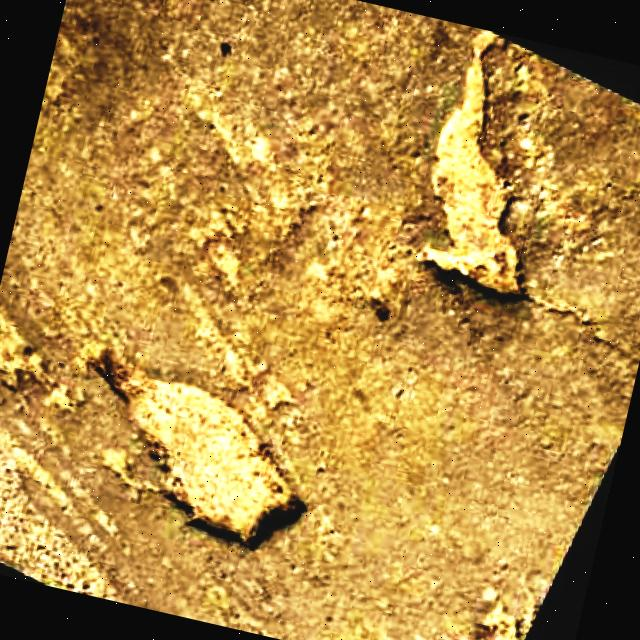pothole: (52, 341, 334, 564), (402, 25, 578, 306), (462, 582, 540, 640), (0, 306, 55, 387)
